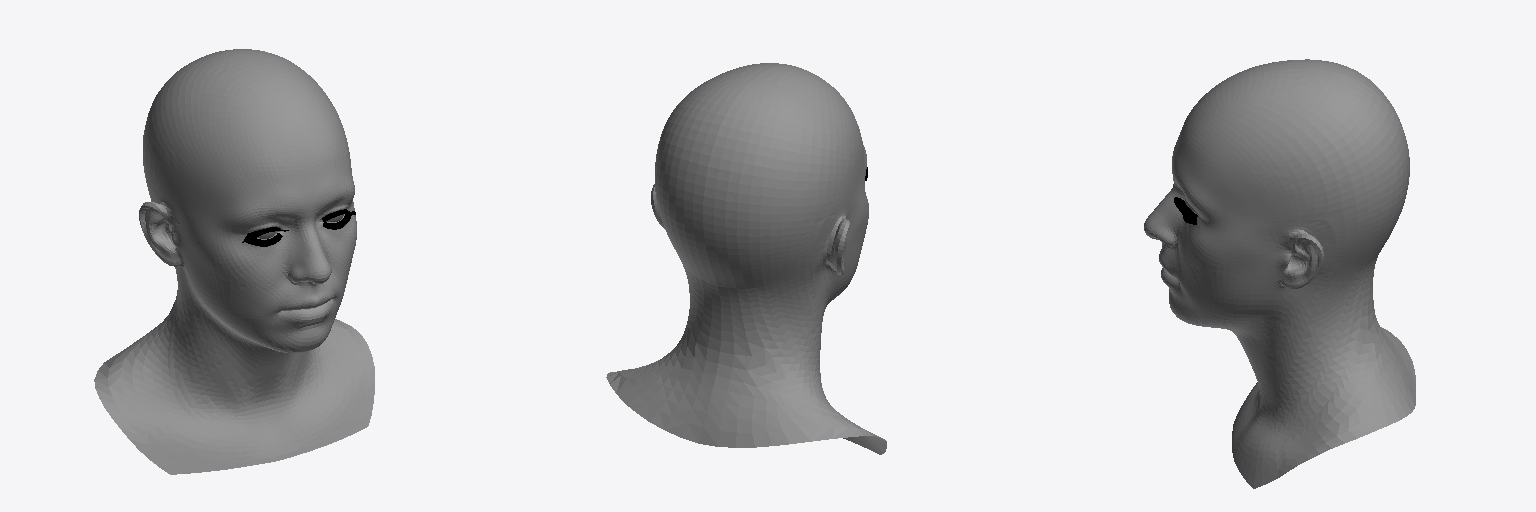
The model's file is identity054.obj.
3 renders of one model, left to right at view 1: azimuth 30°, elevation 25°; view 2: azimuth 150°, elevation 25°; view 3: azimuth 270°, elevation 25°, orthographic.
Bounding box in the file's own units: 24.84 × 33.79 × 22.3.